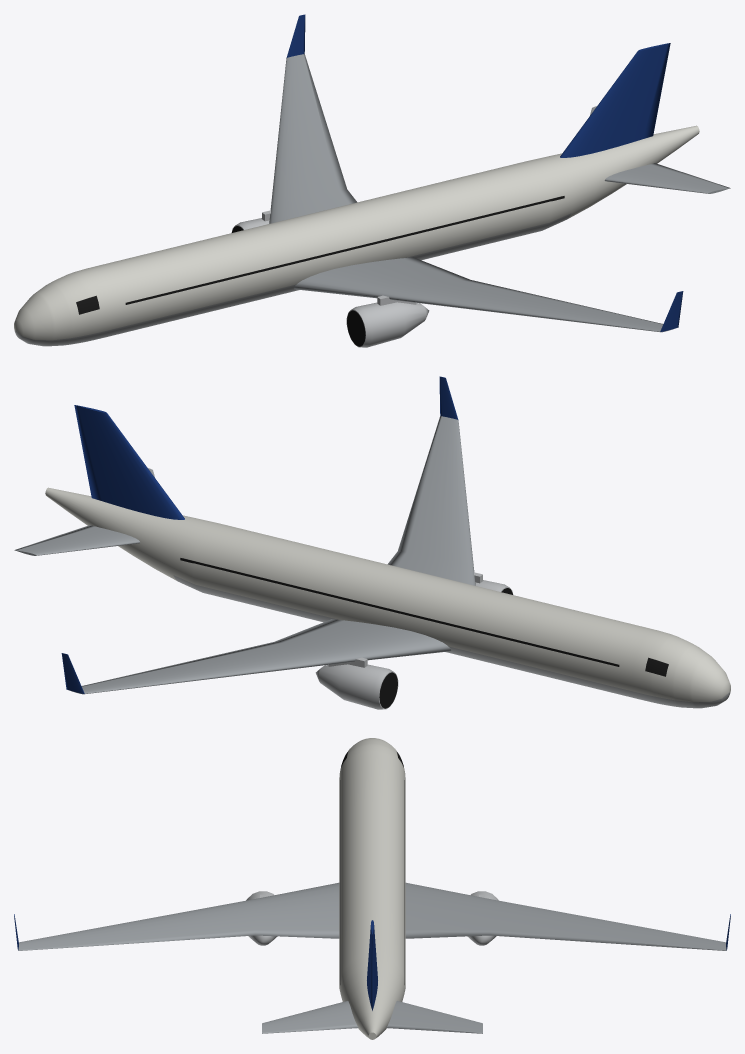
3 renders of one model, top to bottom at view 1: azimuth 30°, elevation 25°; view 2: azimuth 150°, elevation 25°; view 3: azimuth 270°, elevation 25°, orthographic. The views are drawn at different scales.
Parts seen in each view (by area): view 1: a359; view 2: a359; view 3: a359.
Boxes of the visible parts, box(x1,y1,x2,y2) form: a359: box(14, 14, 730, 347); a359: box(14, 376, 730, 709); a359: box(14, 738, 730, 1039).
Size of the model in its own units: 66.8 by 16.06 by 64.22.
